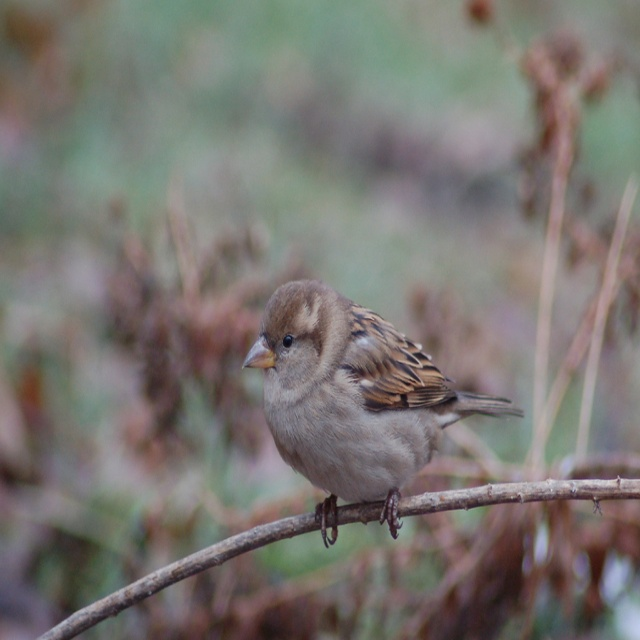Sparrow: (242, 279, 524, 549)
